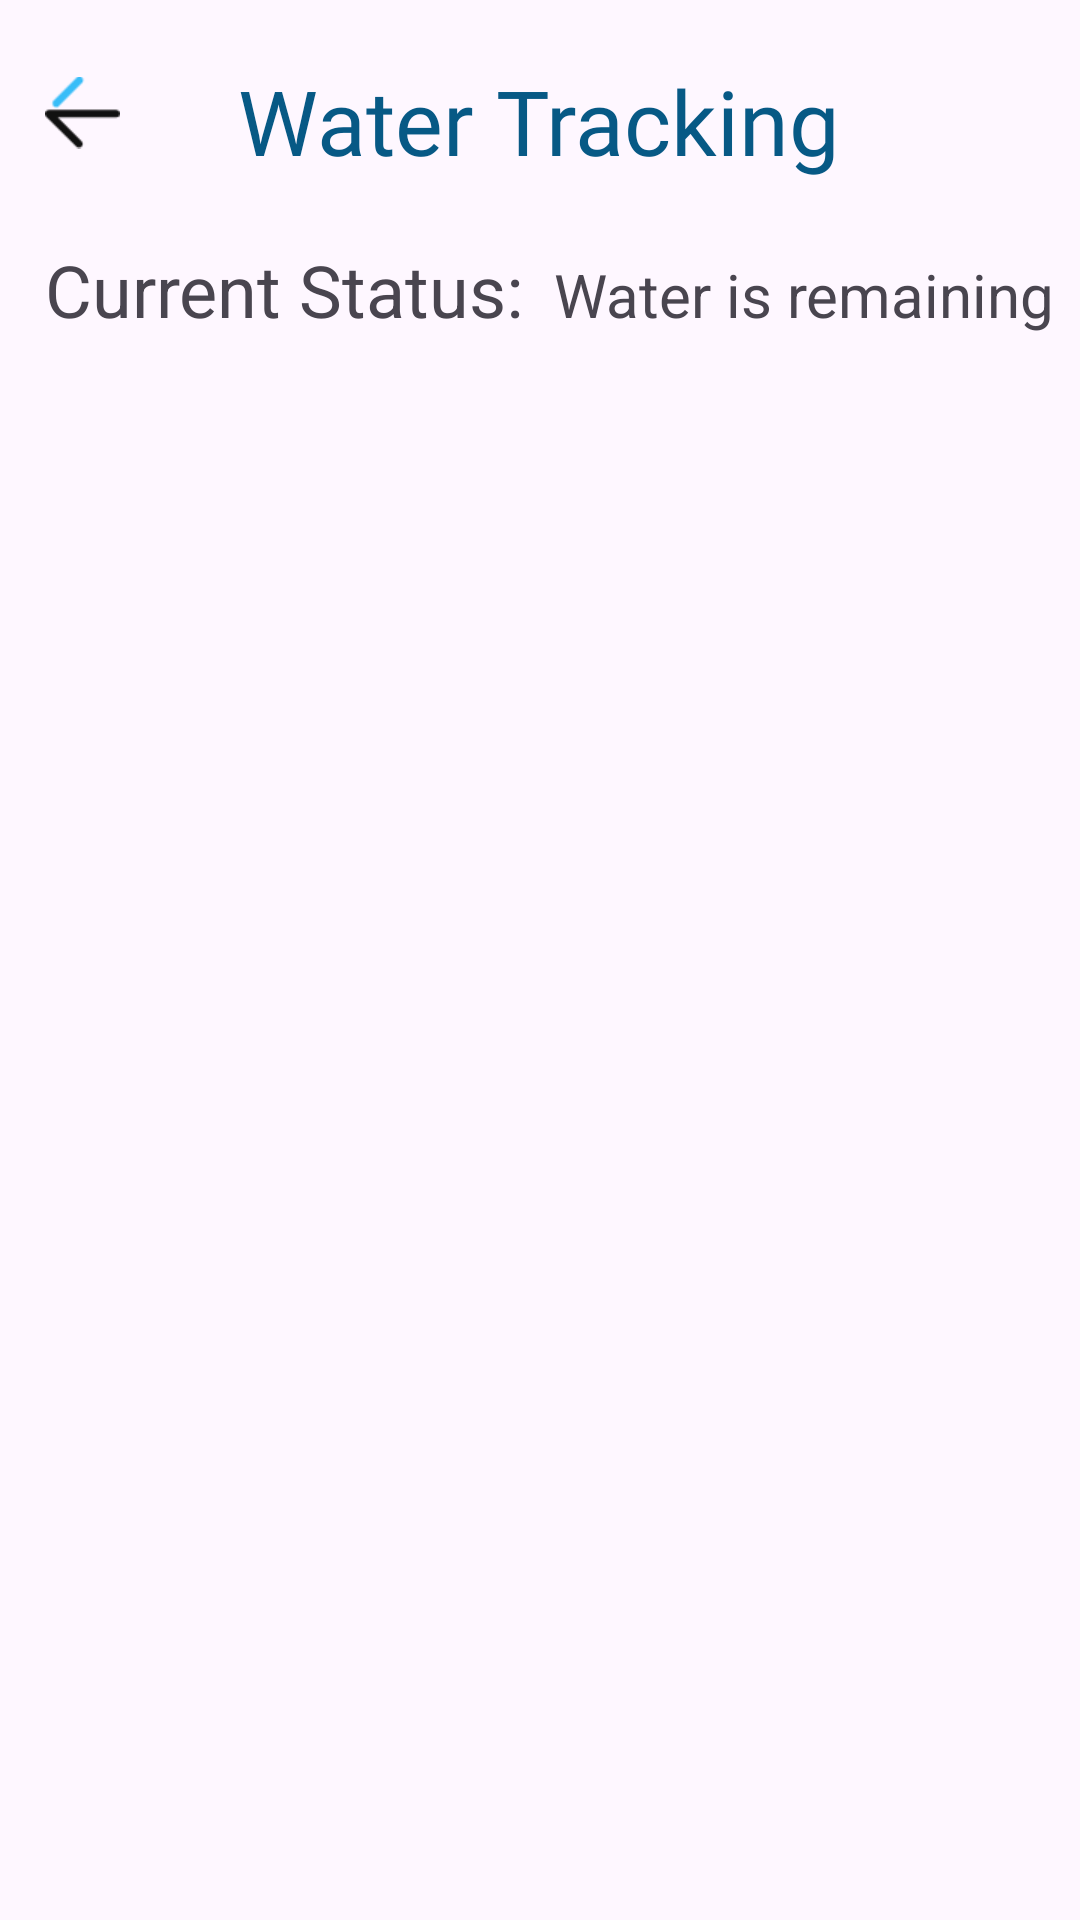

Where to tap for icons on this 1080 x 1920 app screen, as (x=x, y=y):
back: (x=82, y=113)
